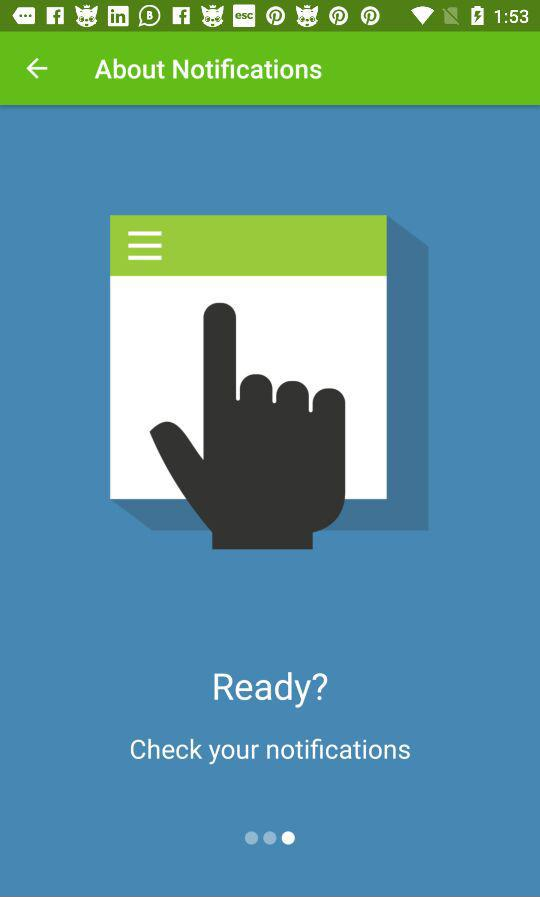Icon: (27, 59, 49, 80)
Image: (110, 215, 430, 551)
PageIndicator: (244, 830, 297, 847)
Text: (131, 737, 411, 766), (94, 58, 323, 82), (213, 671, 329, 710)
Toolbar: (1, 33, 540, 106)
UpperTaskBar: (1, 1, 540, 33)
